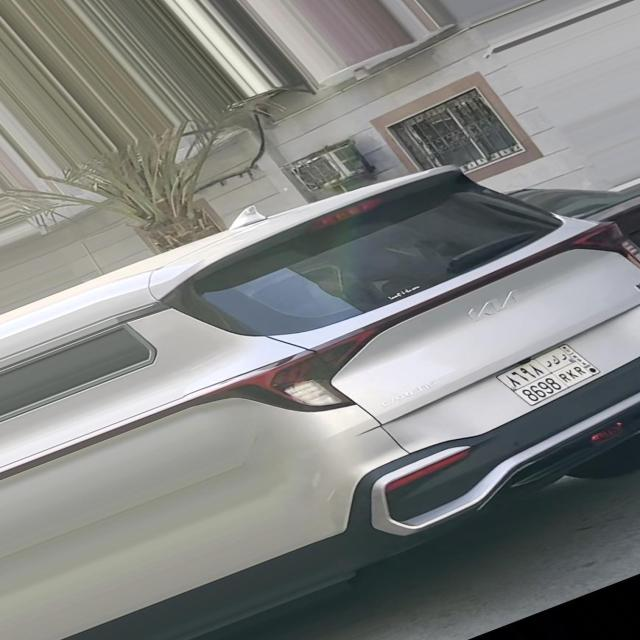Car-plate: (474, 330, 627, 419)
